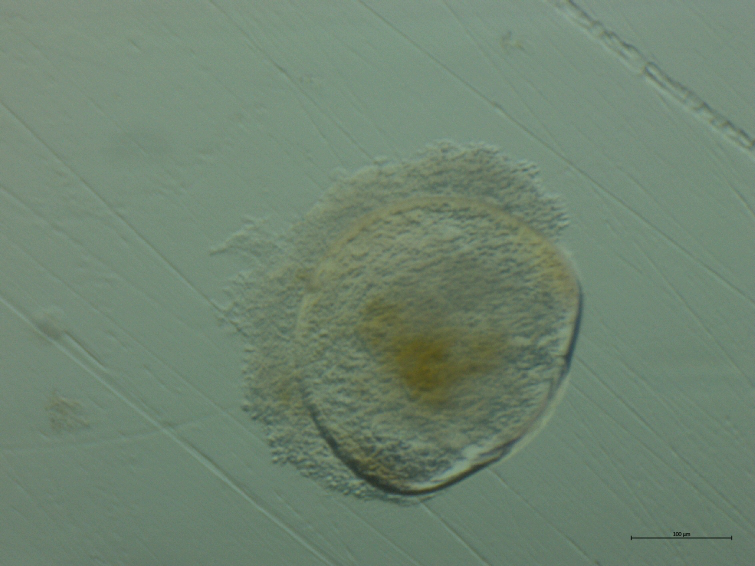oyster: (284, 190, 596, 506)
